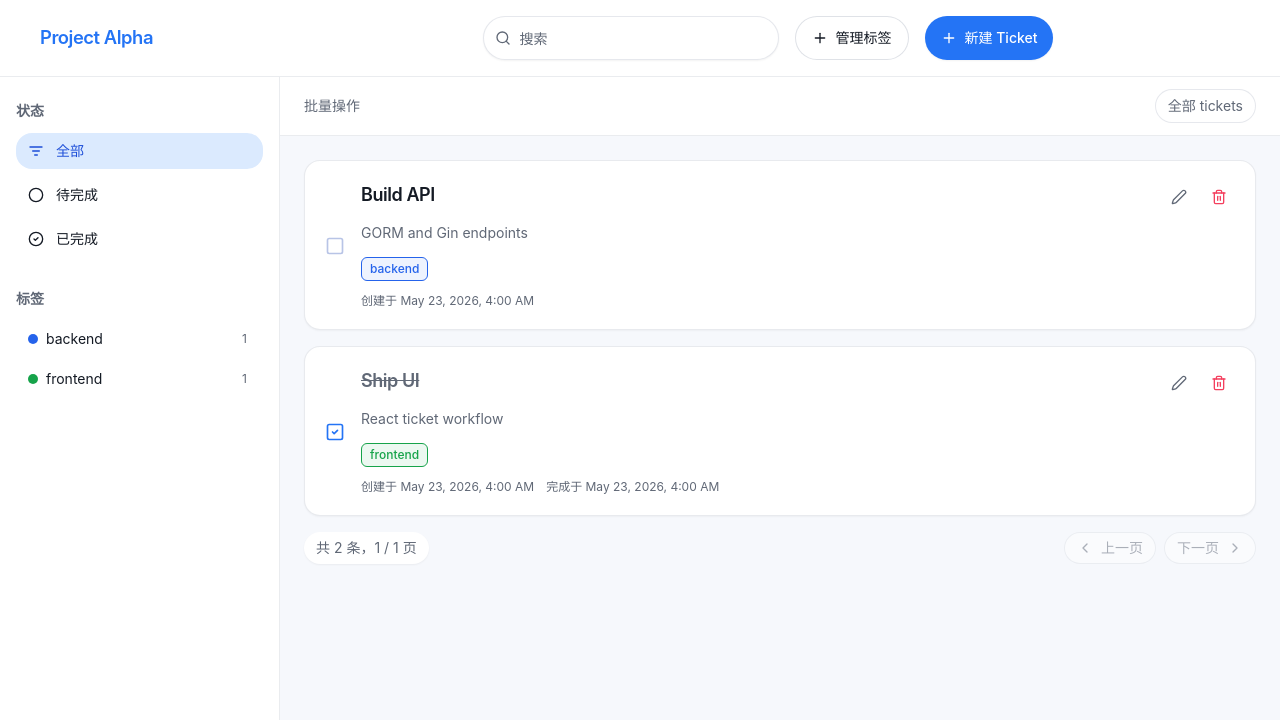
Test: App › 按标题搜索 ticket
Check: the button "Build API" is shown, box top-left (361, 181), bottom-right (435, 209)
Type "Ship" into the field named "搜索标题" at (630, 38), box top-left (482, 16), bottom-right (778, 60)
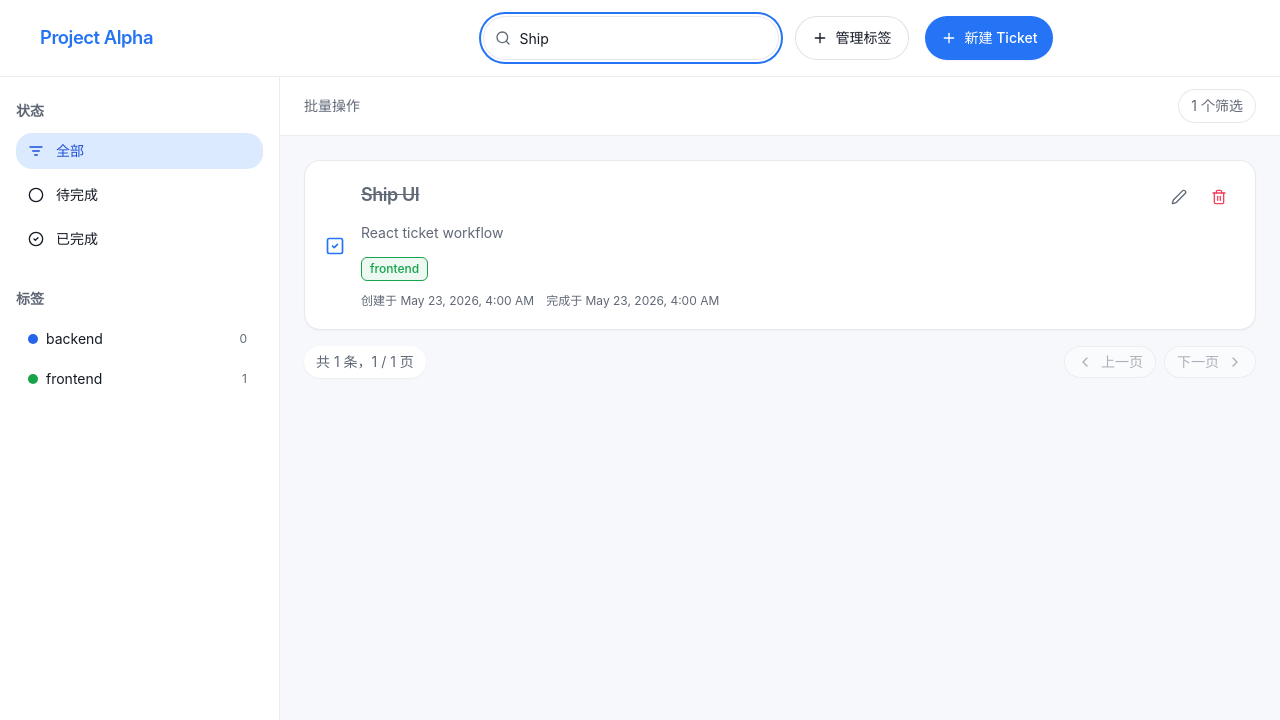
Check: the button "Ship UI" is shown, box top-left (361, 181), bottom-right (419, 209)
Check: the button "Build API" is gone
